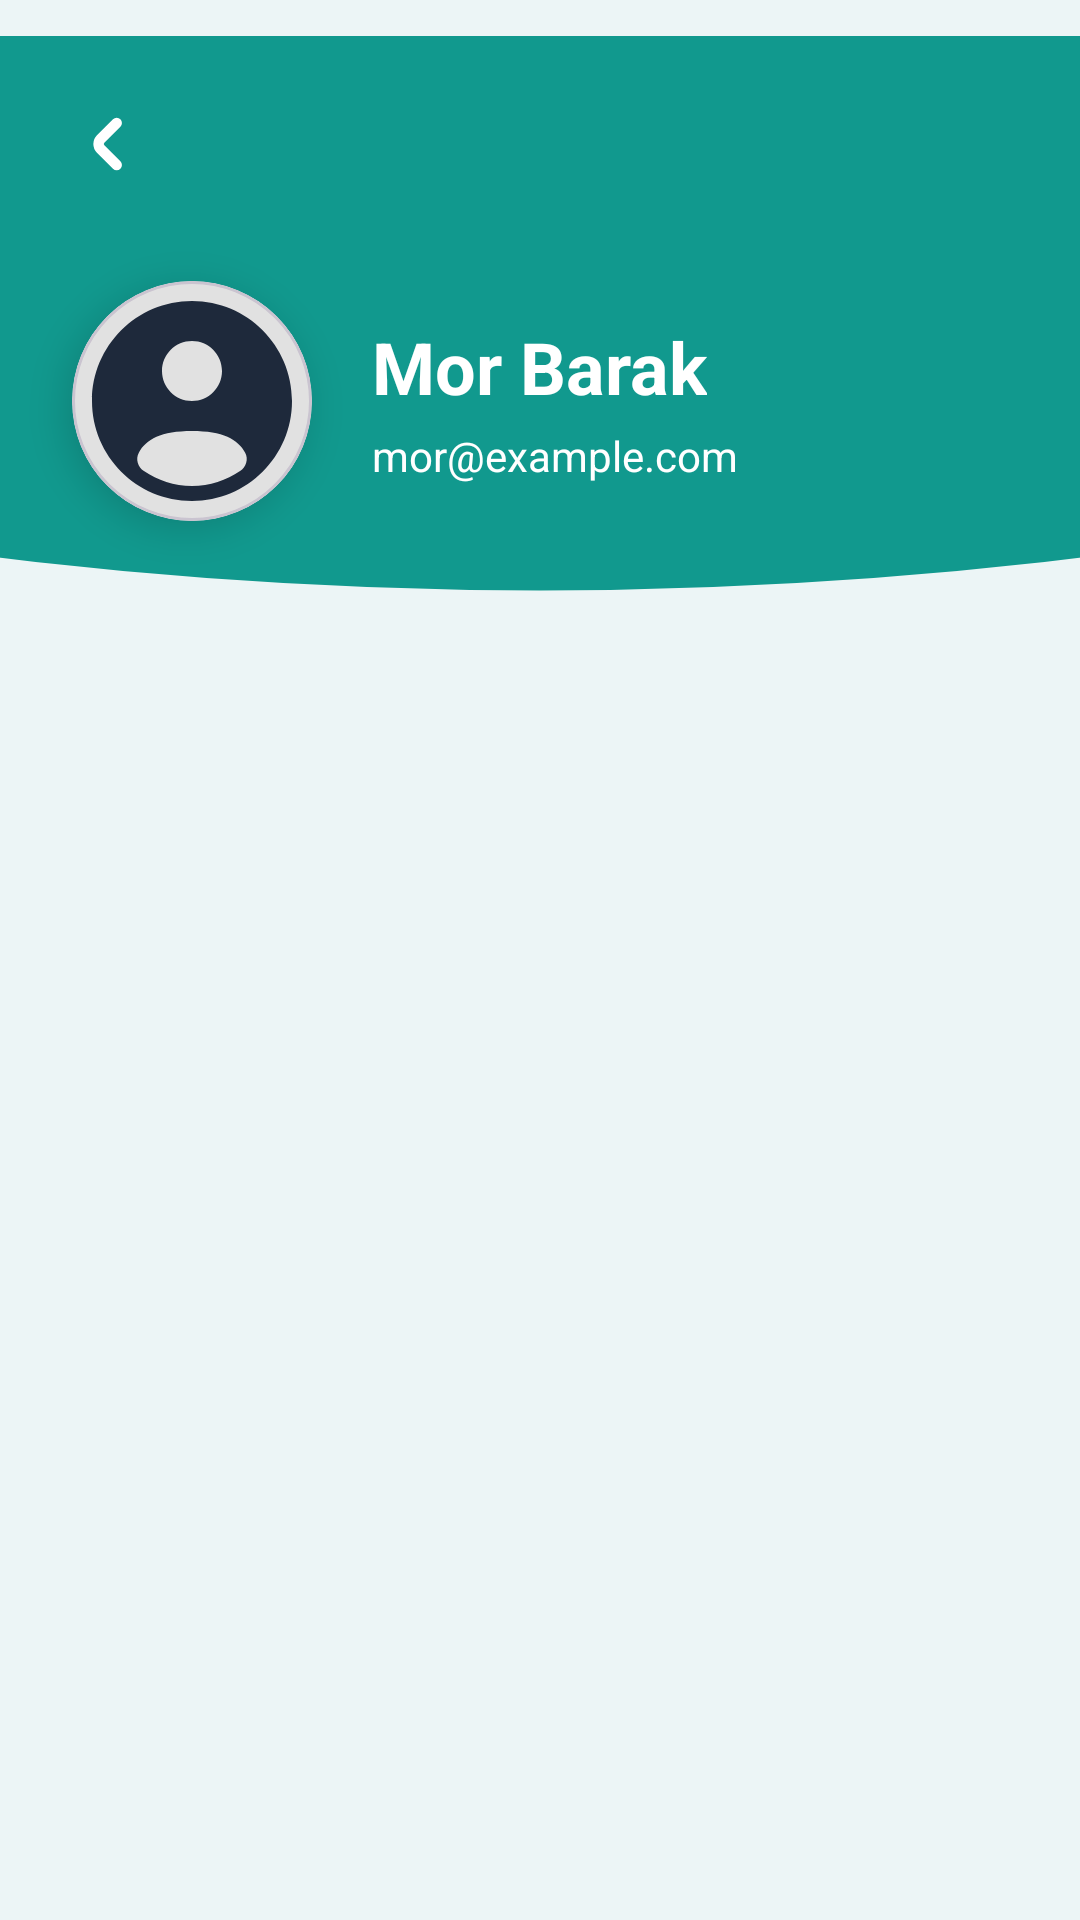

Icon click points for this 1080×1920 phone screenshot, format point (x, y):
back: point (107, 144)
user: point (192, 401)
